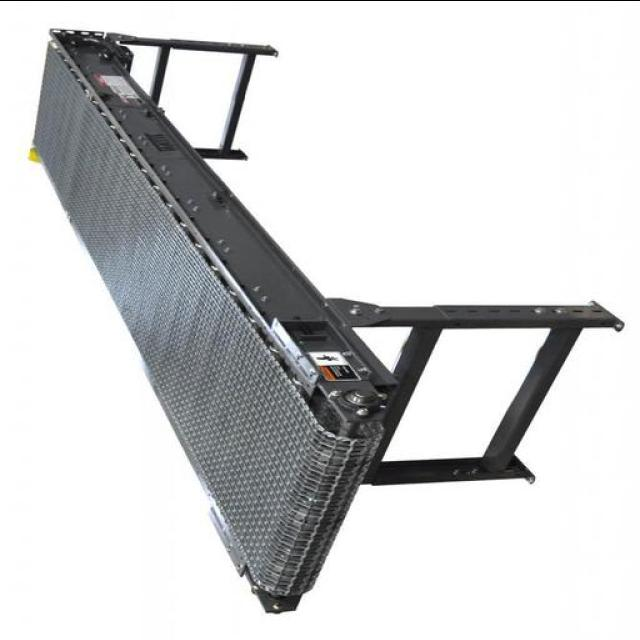conveyor: (33, 36, 390, 604)
